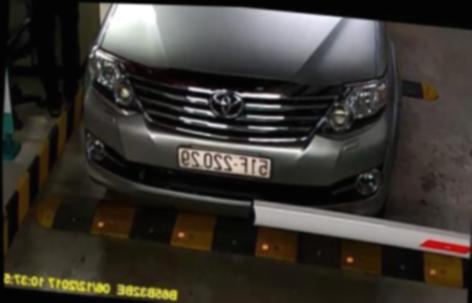License_Plate: (173, 147, 283, 181)
